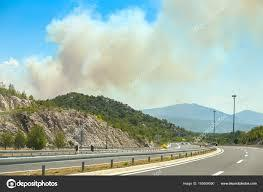yanwu: (1, 1, 261, 93)
